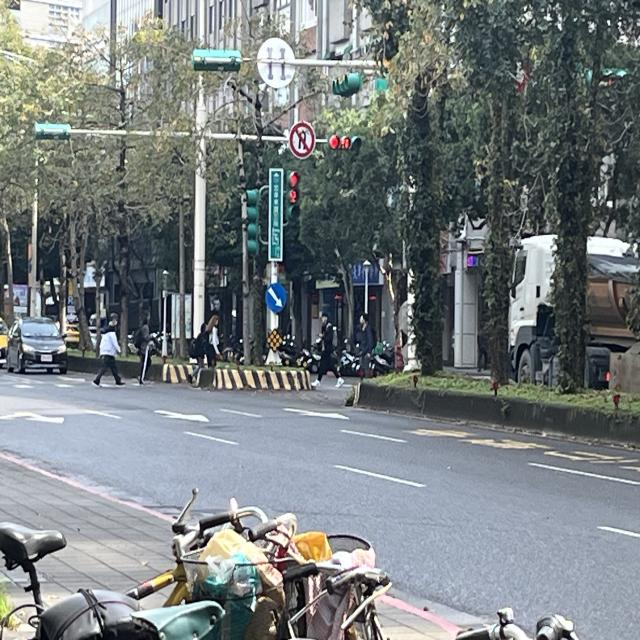red light: (286, 167, 301, 220), (327, 134, 363, 154)
